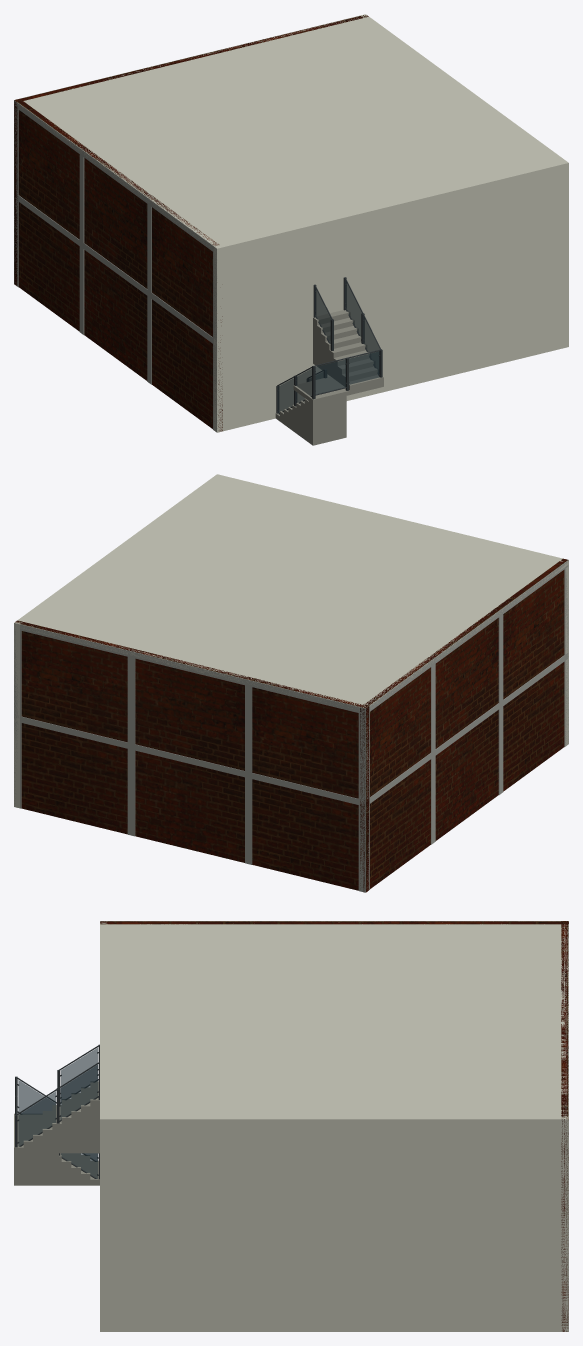
The model's file is building.glb.
3 views of the same model, one above another, from view 1: azimuth 30°, elevation 25°; view 2: azimuth 150°, elevation 25°; view 3: azimuth 270°, elevation 25° (orthographic). The views are drawn at different scales.
Parts seen in each view (by area): view 1: roof/house:0/roof_slab#0001, house:0/edge0/z0/house:0/edge0/z0/wall_0_0, house:0/edge3/z0/house:0/edge3/z0/wall_0_0, house:0/edge2/z0/house:0/edge2/z0/wall_0_0, house:0/edge0/z0/stair_00/exterior_stair_step#0009, house:0/edge1/z0/house:0/edge1/z0/wall_0_0, house:0/edge3/z0/house:0/edge3/z0/beam_1_0, house:0/edge3/z0/house:0/edge3/z0/beam_0_0, balcony/sample/balcony_glass#0003, balcony/sample/balcony_glass#0004, house:0/edge0/z0/stair_00/exterior_stair_landing#0001; view 2: roof/house:0/roof_slab#0001, house:0/edge2/z0/house:0/edge2/z0/wall_0_0, house:0/edge3/z0/house:0/edge3/z0/wall_0_0, house:0/edge2/z0/house:0/edge2/z0/beam_0_0, house:0/edge2/z0/house:0/edge2/z0/beam_1_0, house:0/edge1/z0/house:0/edge1/z0/wall_0_0, house:0/edge0/z0/house:0/edge0/z0/wall_0_0, house:0/edge3/z0/house:0/edge3/z0/beam_0_0, house:0/edge3/z0/house:0/edge3/z0/beam_1_0, house:0/edge2/z0/house:0/edge2/z0/column_2_0, house:0/edge2/z0/house:0/edge2/z0/column_2_1, house:0/edge2/z0/house:0/edge2/z0/column_1_1 (+3 smaller); view 3: house:0/edge1/z0/house:0/edge1/z0/wall_0_0, roof/house:0/roof_slab#0001, house:0/edge0/z0/house:0/edge0/z0/wall_0_0, house:0/edge2/z0/house:0/edge2/z0/wall_0_0, house:0/edge3/z0/house:0/edge3/z0/wall_0_0, balcony/sample/balcony_glass#0006, balcony/sample/balcony_glass#0005, balcony/sample/balcony_glass#0008, balcony/sample/balcony_glass#0002, house:0/edge0/z0/stair_00/exterior_stair_step#0018, house:0/edge0/z0/stair_00/exterior_stair_step#0017, house:0/edge0/z0/stair_00/exterior_stair_step#0016 (+2 smaller).
Part boxes in pixels (x1,y1,x2,y2): roof/house:0/roof_slab#0001: [14, 14, 568, 251]; house:0/edge0/z0/house:0/edge0/z0/wall_0_0: [213, 160, 568, 432]; house:0/edge3/z0/house:0/edge3/z0/wall_0_0: [15, 99, 222, 431]; house:0/edge2/z0/house:0/edge2/z0/wall_0_0: [14, 15, 368, 285]; house:0/edge0/z0/stair_00/exterior_stair_step#0009: [309, 389, 346, 445]; house:0/edge1/z0/house:0/edge1/z0/wall_0_0: [360, 14, 568, 348]; house:0/edge3/z0/house:0/edge3/z0/beam_1_0: [14, 100, 216, 253]; house:0/edge3/z0/house:0/edge3/z0/beam_0_0: [14, 194, 216, 346]; balcony/sample/balcony_glass#0003: [315, 359, 345, 394]; balcony/sample/balcony_glass#0004: [349, 351, 379, 384]; house:0/edge0/z0/stair_00/exterior_stair_landing#0001: [293, 377, 383, 400]; roof/house:0/roof_slab#0001: [14, 474, 568, 712]; house:0/edge2/z0/house:0/edge2/z0/wall_0_0: [15, 620, 369, 892]; house:0/edge3/z0/house:0/edge3/z0/wall_0_0: [360, 558, 567, 892]; house:0/edge2/z0/house:0/edge2/z0/beam_0_0: [14, 715, 365, 806]; house:0/edge2/z0/house:0/edge2/z0/beam_1_0: [15, 623, 365, 714]; house:0/edge1/z0/house:0/edge1/z0/wall_0_0: [14, 475, 219, 808]; house:0/edge0/z0/house:0/edge0/z0/wall_0_0: [214, 474, 568, 745]; house:0/edge3/z0/house:0/edge3/z0/beam_0_0: [365, 653, 568, 806]; house:0/edge3/z0/house:0/edge3/z0/beam_1_0: [365, 560, 568, 712]; house:0/edge2/z0/house:0/edge2/z0/column_2_0: [127, 657, 135, 744]; house:0/edge2/z0/house:0/edge2/z0/column_2_1: [127, 749, 135, 836]; house:0/edge2/z0/house:0/edge2/z0/column_1_1: [358, 713, 365, 800]; house:0/edge1/z0/house:0/edge1/z0/wall_0_0: [100, 1116, 568, 1331]; roof/house:0/roof_slab#0001: [100, 921, 568, 1124]; house:0/edge0/z0/house:0/edge0/z0/wall_0_0: [100, 921, 107, 1331]; house:0/edge2/z0/house:0/edge2/z0/wall_0_0: [561, 921, 568, 1331]; house:0/edge3/z0/house:0/edge3/z0/wall_0_0: [100, 921, 568, 924]; balcony/sample/balcony_glass#0006: [60, 1065, 97, 1119]; balcony/sample/balcony_glass#0005: [18, 1091, 55, 1146]; balcony/sample/balcony_glass#0008: [61, 1048, 97, 1101]; balcony/sample/balcony_glass#0002: [18, 1080, 55, 1113]; house:0/edge0/z0/stair_00/exterior_stair_step#0018: [90, 1081, 99, 1153]; house:0/edge0/z0/stair_00/exterior_stair_step#0017: [81, 1087, 90, 1153]; house:0/edge0/z0/stair_00/exterior_stair_step#0016: [71, 1093, 80, 1153].
Size of the model in its own units: 12 by 6 by 14.2.
6 materials, 1 textured.
